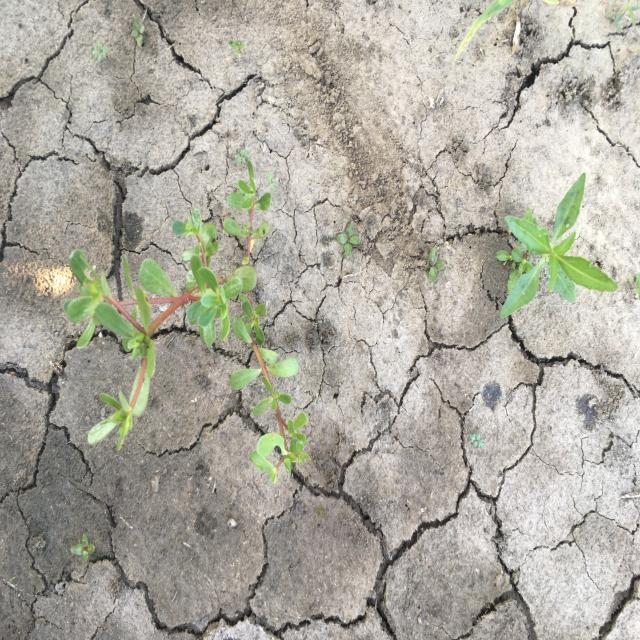Eclipta: (494, 172, 618, 320)
Purslane: (61, 158, 312, 484)
